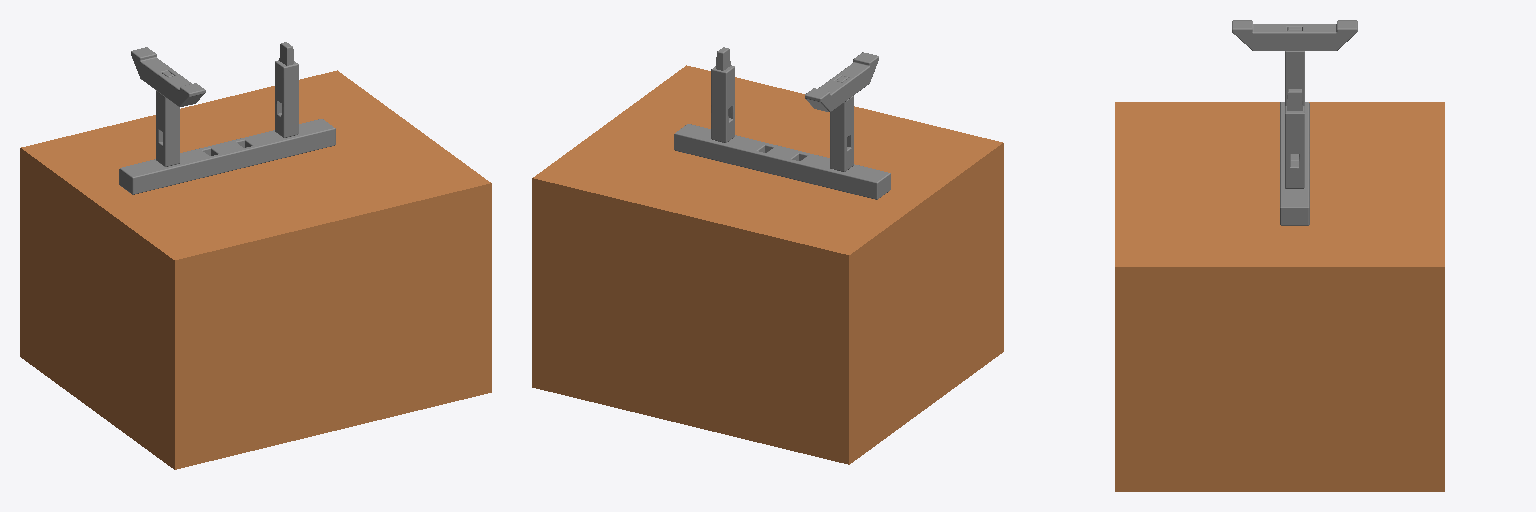
robot.urdf — table_beam_2x_1_scene_0075:
<?xml version="1.0"?>
<robot name="table_beam_2x_1_scene_0075">
  <link name="box">
    <visual>
      <material name="wood"><color rgba="0.82 0.56 0.35 1.0"/></material>
      <origin xyz="0 0 0"/>
      <geometry><box size="0.475 0.4 0.3"/></geometry>
    </visual>
    <collision>
      <origin xyz="0 0 0"/>
      <geometry><box size="0.475 0.4 0.3"/></geometry>
    </collision>
    <inertial>
      <mass value="500"/>
      <friction value="1.0"/>
      <inertia ixx="1000.0" ixy="0.0" ixz="0.0" iyy="1000.0" iyz="0.0" izz="1000.0"/>
    </inertial>
  </link>
  <link name="part_6_canonical">
    <visual>
      <origin xyz="0 0 0" rpy="0 0 0"/>
      <geometry><mesh filename="../../6/6_canonical.obj" scale="1 1 1"/></geometry>
      <material name="placed_0"><color rgba="0.6 0.6 0.6 1.0"/></material>
    </visual>
    <collision>
      <origin xyz="0 0 0" rpy="0 0 0"/>
      <geometry><mesh filename="../../6/6_canonical.obj" scale="1 1 1"/></geometry>
    </collision>
  </link>
  <joint name="part_6_canonical_joint" type="fixed">
    <parent link="box"/>
    <child link="part_6_canonical"/>
    <origin xyz="-0.032258 0.018012 0.162666" rpy="0.000000 0.000000 0.000000"/>
  </joint>
  <link name="part_2_canonical">
    <visual>
      <origin xyz="0 0 0" rpy="0 0 0"/>
      <geometry><mesh filename="../../2/2_canonical.obj" scale="1 1 1"/></geometry>
      <material name="placed_1"><color rgba="0.6 0.6 0.6 1.0"/></material>
    </visual>
    <collision>
      <origin xyz="0 0 0" rpy="0 0 0"/>
      <geometry><mesh filename="../../2/2_canonical.obj" scale="1 1 1"/></geometry>
    </collision>
  </link>
  <joint name="part_2_canonical_joint" type="fixed">
    <parent link="box"/>
    <child link="part_2_canonical"/>
    <origin xyz="-0.121185 0.018012 0.225384" rpy="0.000000 -1.570796 0.000000"/>
  </joint>
  <link name="part_0_canonical">
    <visual>
      <origin xyz="0 0 0" rpy="0 0 0"/>
      <geometry><mesh filename="../../0/0_canonical.obj" scale="1 1 1"/></geometry>
      <material name="placed_2"><color rgba="0.6 0.6 0.6 1.0"/></material>
    </visual>
    <collision>
      <origin xyz="0 0 0" rpy="0 0 0"/>
      <geometry><mesh filename="../../0/0_canonical.obj" scale="1 1 1"/></geometry>
    </collision>
  </link>
  <joint name="part_0_canonical_joint" type="fixed">
    <parent link="box"/>
    <child link="part_0_canonical"/>
    <origin xyz="-0.121158 0.018012 0.292243" rpy="1.570796 0.000000 -1.570796"/>
  </joint>
  <link name="part_3_hull_0">
    <visual>
      <origin xyz="0 0 0" rpy="0 0 0"/>
      <geometry><mesh filename="../../3/coacd/decomp_0.obj" scale="1 1 1"/></geometry>
      <material name="placed_3"><color rgba="0.6 0.6 0.6 1.0"/></material>
    </visual>
    <collision>
      <origin xyz="0 0 0" rpy="0 0 0"/>
      <geometry><mesh filename="../../3/coacd/decomp_0.obj" scale="1 1 1"/></geometry>
    </collision>
  </link>
  <joint name="part_3_hull_0_joint" type="fixed">
    <parent link="box"/>
    <child link="part_3_hull_0"/>
    <origin xyz="0.056669 0.018012 0.225384" rpy="0.000000 -1.570796 0.000000"/>
  </joint>
  <link name="part_3_hull_1">
    <visual>
      <origin xyz="0 0 0" rpy="0 0 0"/>
      <geometry><mesh filename="../../3/coacd/decomp_1.obj" scale="1 1 1"/></geometry>
      <material name="placed_4"><color rgba="0.6 0.6 0.6 1.0"/></material>
    </visual>
    <collision>
      <origin xyz="0 0 0" rpy="0 0 0"/>
      <geometry><mesh filename="../../3/coacd/decomp_1.obj" scale="1 1 1"/></geometry>
    </collision>
  </link>
  <joint name="part_3_hull_1_joint" type="fixed">
    <parent link="box"/>
    <child link="part_3_hull_1"/>
    <origin xyz="0.056669 0.018012 0.225384" rpy="0.000000 -1.570796 0.000000"/>
  </joint>
  <link name="part_3_hull_2">
    <visual>
      <origin xyz="0 0 0" rpy="0 0 0"/>
      <geometry><mesh filename="../../3/coacd/decomp_10.obj" scale="1 1 1"/></geometry>
      <material name="placed_5"><color rgba="0.6 0.6 0.6 1.0"/></material>
    </visual>
    <collision>
      <origin xyz="0 0 0" rpy="0 0 0"/>
      <geometry><mesh filename="../../3/coacd/decomp_10.obj" scale="1 1 1"/></geometry>
    </collision>
  </link>
  <joint name="part_3_hull_2_joint" type="fixed">
    <parent link="box"/>
    <child link="part_3_hull_2"/>
    <origin xyz="0.056669 0.018012 0.225384" rpy="0.000000 -1.570796 0.000000"/>
  </joint>
  <link name="part_3_hull_3">
    <visual>
      <origin xyz="0 0 0" rpy="0 0 0"/>
      <geometry><mesh filename="../../3/coacd/decomp_11.obj" scale="1 1 1"/></geometry>
      <material name="placed_6"><color rgba="0.6 0.6 0.6 1.0"/></material>
    </visual>
    <collision>
      <origin xyz="0 0 0" rpy="0 0 0"/>
      <geometry><mesh filename="../../3/coacd/decomp_11.obj" scale="1 1 1"/></geometry>
    </collision>
  </link>
  <joint name="part_3_hull_3_joint" type="fixed">
    <parent link="box"/>
    <child link="part_3_hull_3"/>
    <origin xyz="0.056669 0.018012 0.225384" rpy="0.000000 -1.570796 0.000000"/>
  </joint>
  <link name="part_3_hull_4">
    <visual>
      <origin xyz="0 0 0" rpy="0 0 0"/>
      <geometry><mesh filename="../../3/coacd/decomp_12.obj" scale="1 1 1"/></geometry>
      <material name="placed_7"><color rgba="0.6 0.6 0.6 1.0"/></material>
    </visual>
    <collision>
      <origin xyz="0 0 0" rpy="0 0 0"/>
      <geometry><mesh filename="../../3/coacd/decomp_12.obj" scale="1 1 1"/></geometry>
    </collision>
  </link>
  <joint name="part_3_hull_4_joint" type="fixed">
    <parent link="box"/>
    <child link="part_3_hull_4"/>
    <origin xyz="0.056669 0.018012 0.225384" rpy="0.000000 -1.570796 0.000000"/>
  </joint>
  <link name="part_3_hull_5">
    <visual>
      <origin xyz="0 0 0" rpy="0 0 0"/>
      <geometry><mesh filename="../../3/coacd/decomp_2.obj" scale="1 1 1"/></geometry>
      <material name="placed_8"><color rgba="0.6 0.6 0.6 1.0"/></material>
    </visual>
    <collision>
      <origin xyz="0 0 0" rpy="0 0 0"/>
      <geometry><mesh filename="../../3/coacd/decomp_2.obj" scale="1 1 1"/></geometry>
    </collision>
  </link>
  <joint name="part_3_hull_5_joint" type="fixed">
    <parent link="box"/>
    <child link="part_3_hull_5"/>
    <origin xyz="0.056669 0.018012 0.225384" rpy="0.000000 -1.570796 0.000000"/>
  </joint>
  <link name="part_3_hull_6">
    <visual>
      <origin xyz="0 0 0" rpy="0 0 0"/>
      <geometry><mesh filename="../../3/coacd/decomp_3.obj" scale="1 1 1"/></geometry>
      <material name="placed_9"><color rgba="0.6 0.6 0.6 1.0"/></material>
    </visual>
    <collision>
      <origin xyz="0 0 0" rpy="0 0 0"/>
      <geometry><mesh filename="../../3/coacd/decomp_3.obj" scale="1 1 1"/></geometry>
    </collision>
  </link>
  <joint name="part_3_hull_6_joint" type="fixed">
    <parent link="box"/>
    <child link="part_3_hull_6"/>
    <origin xyz="0.056669 0.018012 0.225384" rpy="0.000000 -1.570796 0.000000"/>
  </joint>
  <link name="part_3_hull_7">
    <visual>
      <origin xyz="0 0 0" rpy="0 0 0"/>
      <geometry><mesh filename="../../3/coacd/decomp_4.obj" scale="1 1 1"/></geometry>
      <material name="placed_10"><color rgba="0.6 0.6 0.6 1.0"/></material>
    </visual>
    <collision>
      <origin xyz="0 0 0" rpy="0 0 0"/>
      <geometry><mesh filename="../../3/coacd/decomp_4.obj" scale="1 1 1"/></geometry>
    </collision>
  </link>
  <joint name="part_3_hull_7_joint" type="fixed">
    <parent link="box"/>
    <child link="part_3_hull_7"/>
    <origin xyz="0.056669 0.018012 0.225384" rpy="0.000000 -1.570796 0.000000"/>
  </joint>
  <link name="part_3_hull_8">
    <visual>
      <origin xyz="0 0 0" rpy="0 0 0"/>
      <geometry><mesh filename="../../3/coacd/decomp_5.obj" scale="1 1 1"/></geometry>
      <material name="placed_11"><color rgba="0.6 0.6 0.6 1.0"/></material>
    </visual>
    <collision>
      <origin xyz="0 0 0" rpy="0 0 0"/>
      <geometry><mesh filename="../../3/coacd/decomp_5.obj" scale="1 1 1"/></geometry>
    </collision>
  </link>
  <joint name="part_3_hull_8_joint" type="fixed">
    <parent link="box"/>
    <child link="part_3_hull_8"/>
    <origin xyz="0.056669 0.018012 0.225384" rpy="0.000000 -1.570796 0.000000"/>
  </joint>
  <link name="part_3_hull_9">
    <visual>
      <origin xyz="0 0 0" rpy="0 0 0"/>
      <geometry><mesh filename="../../3/coacd/decomp_6.obj" scale="1 1 1"/></geometry>
      <material name="placed_12"><color rgba="0.6 0.6 0.6 1.0"/></material>
    </visual>
    <collision>
      <origin xyz="0 0 0" rpy="0 0 0"/>
      <geometry><mesh filename="../../3/coacd/decomp_6.obj" scale="1 1 1"/></geometry>
    </collision>
  </link>
  <joint name="part_3_hull_9_joint" type="fixed">
    <parent link="box"/>
    <child link="part_3_hull_9"/>
    <origin xyz="0.056669 0.018012 0.225384" rpy="0.000000 -1.570796 0.000000"/>
  </joint>
  <link name="part_3_hull_10">
    <visual>
      <origin xyz="0 0 0" rpy="0 0 0"/>
      <geometry><mesh filename="../../3/coacd/decomp_7.obj" scale="1 1 1"/></geometry>
      <material name="placed_13"><color rgba="0.6 0.6 0.6 1.0"/></material>
    </visual>
    <collision>
      <origin xyz="0 0 0" rpy="0 0 0"/>
      <geometry><mesh filename="../../3/coacd/decomp_7.obj" scale="1 1 1"/></geometry>
    </collision>
  </link>
  <joint name="part_3_hull_10_joint" type="fixed">
    <parent link="box"/>
    <child link="part_3_hull_10"/>
    <origin xyz="0.056669 0.018012 0.225384" rpy="0.000000 -1.570796 0.000000"/>
  </joint>
  <link name="part_3_hull_11">
    <visual>
      <origin xyz="0 0 0" rpy="0 0 0"/>
      <geometry><mesh filename="../../3/coacd/decomp_8.obj" scale="1 1 1"/></geometry>
      <material name="placed_14"><color rgba="0.6 0.6 0.6 1.0"/></material>
    </visual>
    <collision>
      <origin xyz="0 0 0" rpy="0 0 0"/>
      <geometry><mesh filename="../../3/coacd/decomp_8.obj" scale="1 1 1"/></geometry>
    </collision>
  </link>
  <joint name="part_3_hull_11_joint" type="fixed">
    <parent link="box"/>
    <child link="part_3_hull_11"/>
    <origin xyz="0.056669 0.018012 0.225384" rpy="0.000000 -1.570796 0.000000"/>
  </joint>
  <link name="part_3_hull_12">
    <visual>
      <origin xyz="0 0 0" rpy="0 0 0"/>
      <geometry><mesh filename="../../3/coacd/decomp_9.obj" scale="1 1 1"/></geometry>
      <material name="placed_15"><color rgba="0.6 0.6 0.6 1.0"/></material>
    </visual>
    <collision>
      <origin xyz="0 0 0" rpy="0 0 0"/>
      <geometry><mesh filename="../../3/coacd/decomp_9.obj" scale="1 1 1"/></geometry>
    </collision>
  </link>
  <joint name="part_3_hull_12_joint" type="fixed">
    <parent link="box"/>
    <child link="part_3_hull_12"/>
    <origin xyz="0.056669 0.018012 0.225384" rpy="0.000000 -1.570796 0.000000"/>
  </joint>
</robot>

--- What the picture shows (computed from the rendered views, not written in the file) ---
The picture shows the robot from 3 angles, left to right: view 1: azimuth 30°, elevation 25°; view 2: azimuth 150°, elevation 25°; view 3: azimuth 270°, elevation 25°; orthographic projection.
Model table_beam_2x_1_scene_0075 with 17 links and 16 joints (16 fixed), rooted at box, posed every joint at zero.
Visible links, largest first — view 1: box, part_6_canonical, part_0_canonical, part_2_canonical; view 2: box, part_6_canonical, part_0_canonical, part_2_canonical; view 3: box, part_0_canonical, part_6_canonical, part_2_canonical, part_3_hull_0.
Link boxes in pixels (x1,y1,x2,y2): box: (20, 70, 491, 469); part_6_canonical: (119, 119, 335, 194); part_0_canonical: (131, 47, 205, 106); part_2_canonical: (156, 71, 179, 166); box: (532, 65, 1003, 464); part_6_canonical: (674, 124, 890, 199); part_0_canonical: (805, 52, 878, 111); part_2_canonical: (830, 76, 853, 171); box: (1115, 102, 1444, 491); part_0_canonical: (1232, 20, 1357, 50); part_6_canonical: (1280, 102, 1309, 225); part_2_canonical: (1285, 27, 1304, 105); part_3_hull_0: (1285, 111, 1304, 153).
Size in the robot's own frame: 0.475 by 0.4 by 0.4575 metres.
Meshes: 16 distinct files referenced, 16 mesh visuals loaded (16 OBJ).
